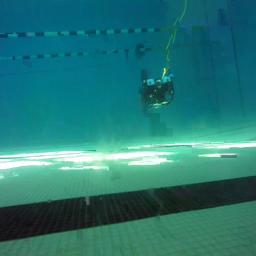front: (137, 72, 175, 112)
